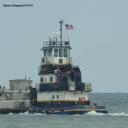tugboat: (28, 19, 110, 119)
